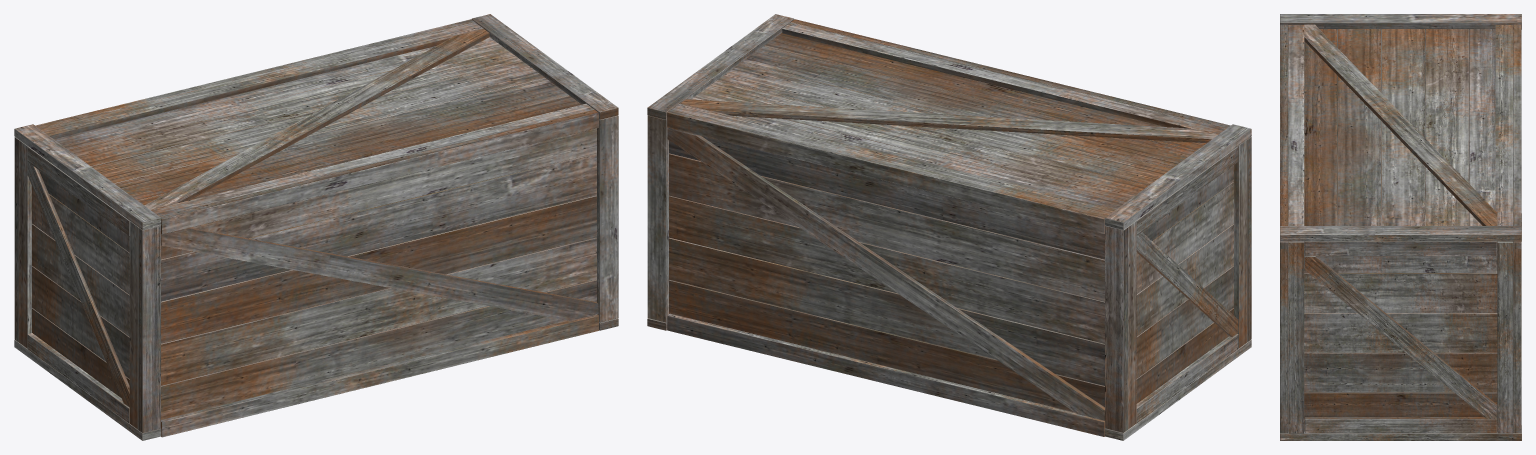
File: 12280_Container_v1_L1.obj
3 renders of one model, left to right at view 1: azimuth 30°, elevation 25°; view 2: azimuth 150°, elevation 25°; view 3: azimuth 270°, elevation 25°, orthographic. The views are drawn at different scales.
Parts seen in each view (by area): view 1: Container_9, Container_3, Container_12, Container_11, Container_8, Container_7, Container_1, Container_2; view 2: Container_4, Container_3, Container_2, Container_11, Container_8, Container_7, Container_1, Container_12; view 3: Container_3, Container_10, Container_1, Container_8, Container_11, Container_12, Container_2, Container_7.
Part boxes in pixels (box(x1,y1,x2,y2)): Container_9: box(161, 128, 596, 419); Container_3: box(54, 37, 581, 205); Container_12: box(159, 109, 598, 437); Container_11: box(14, 124, 161, 440); Container_8: box(40, 23, 594, 215); Container_7: box(32, 170, 129, 397); Container_1: box(471, 14, 618, 330); Container_2: box(35, 19, 475, 128); Container_4: box(669, 136, 1104, 412); Container_3: box(691, 33, 1206, 209); Container_2: box(667, 109, 1106, 436); Container_11: box(1104, 124, 1251, 440); Container_8: box(672, 22, 1225, 215); Container_7: box(1136, 165, 1233, 403); Container_1: box(647, 14, 794, 330); Container_12: box(790, 19, 1230, 128); Container_3: box(1304, 29, 1495, 225); Container_10: box(1288, 241, 1497, 431); Container_1: box(1280, 226, 1521, 440); Container_8: box(1288, 24, 1513, 225); Container_11: box(1280, 14, 1521, 225); Container_12: box(1280, 24, 1288, 225); Container_2: box(1513, 24, 1521, 225); Container_7: box(1337, 30, 1469, 215).
Bounding box in the file's own units: 215 × 94.72 × 99.97.
Materials: 1 (1 with a texture image).
